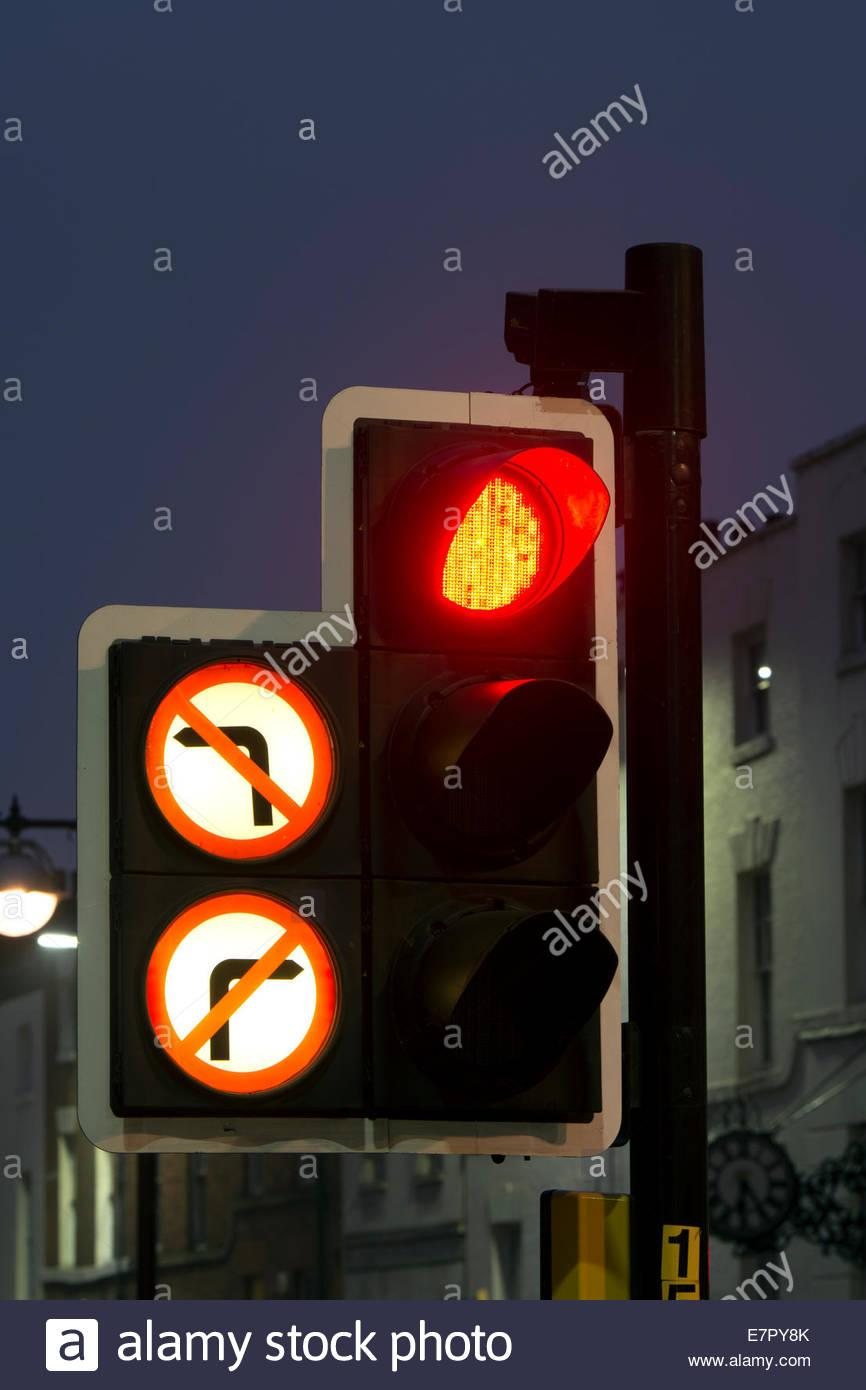no_left_turn: (143, 659, 338, 860)
no_right_turn: (146, 889, 341, 1094)
